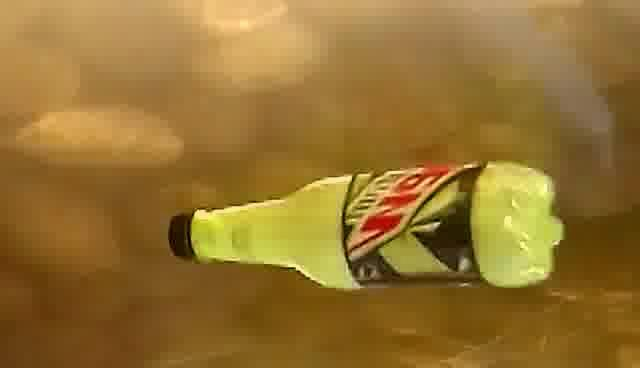Plastic: (164, 161, 563, 300)
